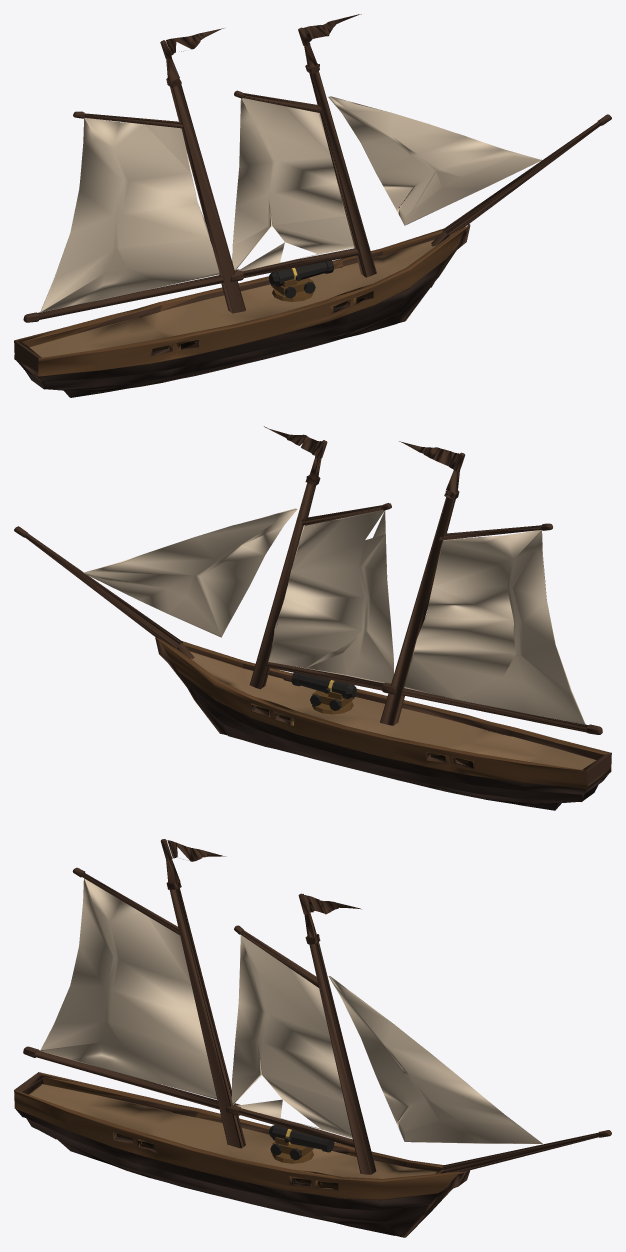
The model's file is schooner.glb.
3 renders of one model, top to bottom at view 1: azimuth 30°, elevation 25°; view 2: azimuth 150°, elevation 25°; view 3: azimuth 330°, elevation 25°, orthographic.
Visible parts, largest first — view 1: geometry_0, cannon_barrel, cannon_carriage; view 2: geometry_0, cannon_barrel, cannon_carriage; view 3: geometry_0, cannon_barrel, cannon_carriage.
Part boxes in pixels (<box>): geometry_0: <box>14,14,611,397</box>; cannon_barrel: <box>268,260,333,286</box>; cannon_carriage: <box>270,278,315,298</box>; geometry_0: <box>14,426,611,810</box>; cannon_barrel: <box>291,672,356,699</box>; cannon_carriage: <box>310,690,355,710</box>; geometry_0: <box>14,839,611,1237</box>; cannon_barrel: <box>269,1125,334,1152</box>; cannon_carriage: <box>270,1137,313,1160</box>.
Bounding box in the file's own units: 1.41 × 0.7794 × 0.1844.
